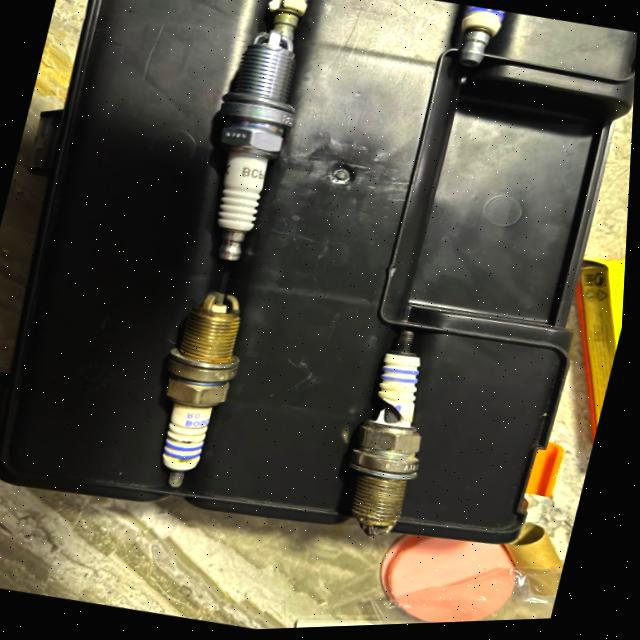damaged_spark-plug: (329, 318, 460, 549)
spark-plug: (181, 24, 322, 282), (139, 280, 261, 504)
